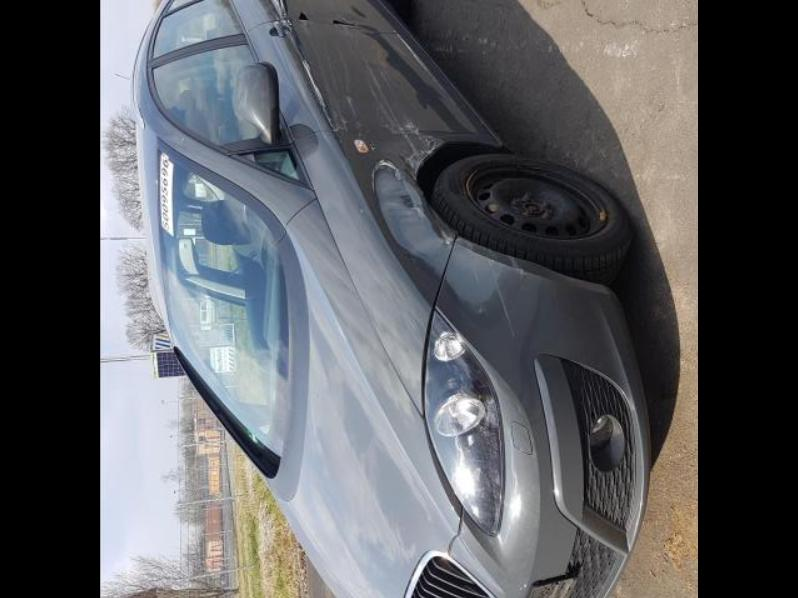Broken part: (292, 9, 377, 35)
Dent: (374, 132, 505, 315), (423, 196, 458, 238), (401, 148, 430, 177), (398, 178, 423, 211)
Missing part: (530, 580, 575, 598)
Paint chip: (370, 141, 375, 150)
Scratch: (365, 57, 441, 180), (391, 28, 457, 104), (301, 58, 349, 132), (485, 248, 515, 338), (337, 45, 367, 135), (321, 56, 343, 118), (369, 156, 401, 190), (466, 240, 480, 283), (507, 253, 524, 285), (378, 66, 396, 92), (440, 227, 452, 242)
